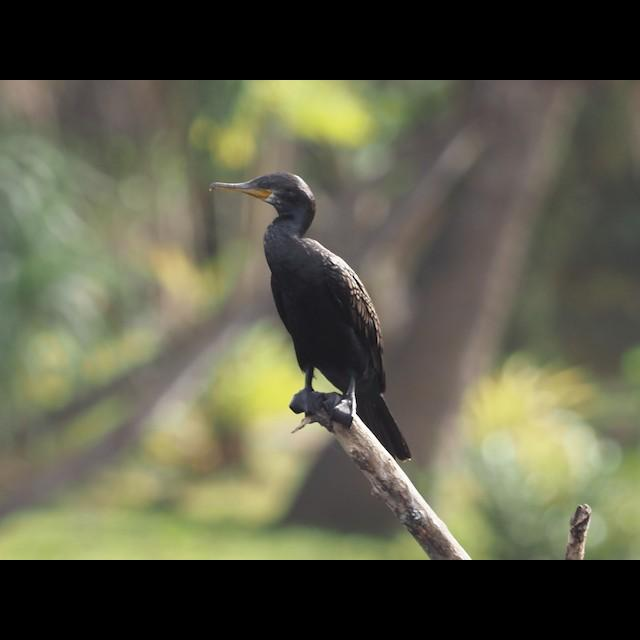cormorant: (203, 165, 431, 469)
